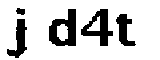4: (79, 7, 113, 48)
d: (44, 7, 78, 49)
j: (2, 4, 31, 58)
t: (115, 12, 141, 53)
